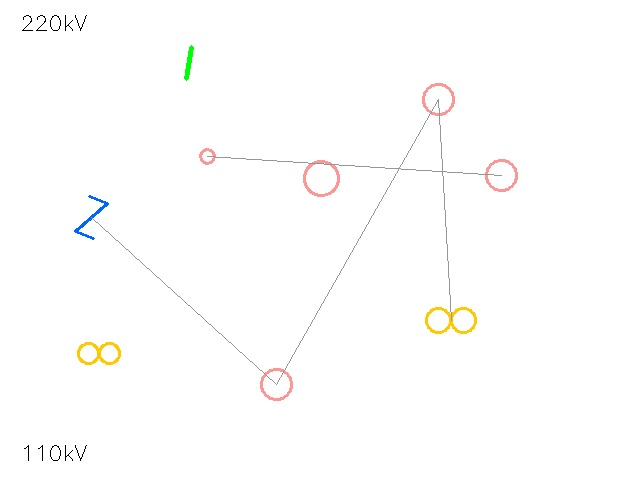busbar: (169, 43, 209, 83)
circuit_breaker: (70, 196, 112, 238)
feeder_terminal: (192, 141, 222, 171)
fuse: (470, 144, 532, 206)
load_break_switch: (408, 69, 468, 129)
reactor: (245, 353, 307, 415)
surge_arrester: (287, 144, 355, 212)
transformer_2w: (419, 288, 483, 352), (73, 327, 125, 379)
